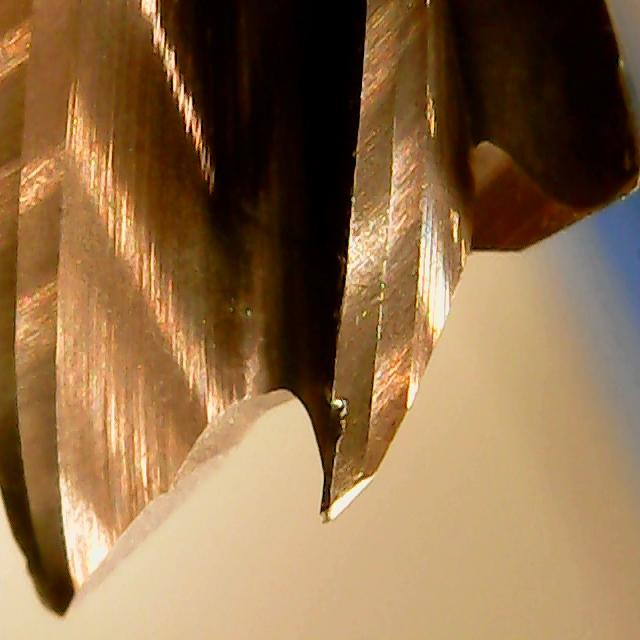Tool-wear-class-2: (298, 236, 446, 527)
